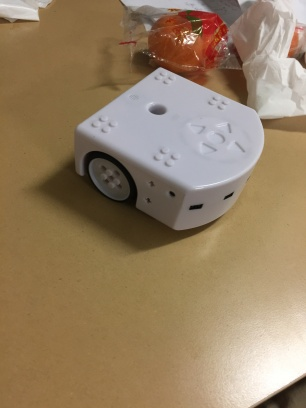thymio: (71, 61, 277, 238)
